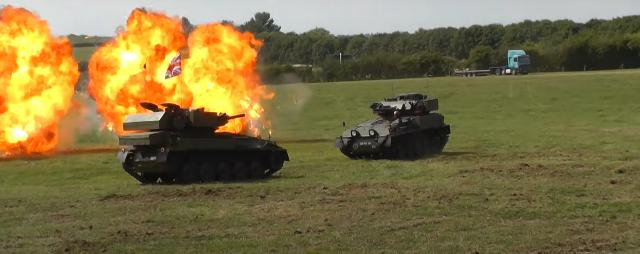tank: (124, 102, 284, 182), (344, 94, 446, 154)
